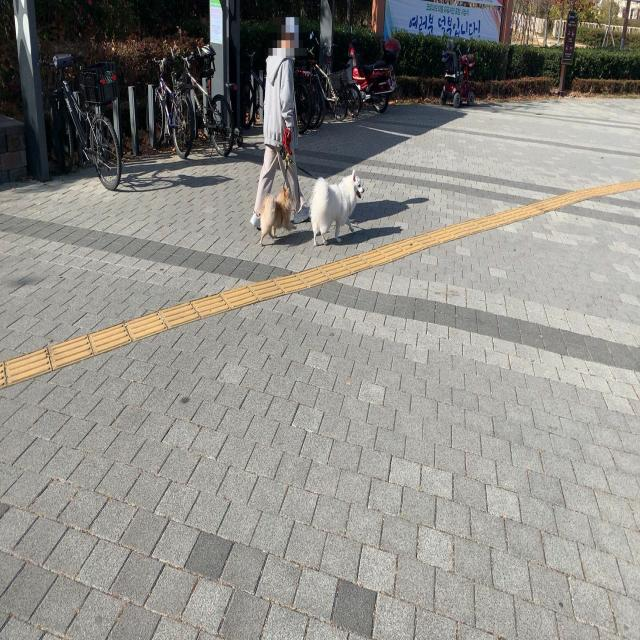Leashed_Dog: (285, 124, 367, 251), (258, 127, 296, 246)
